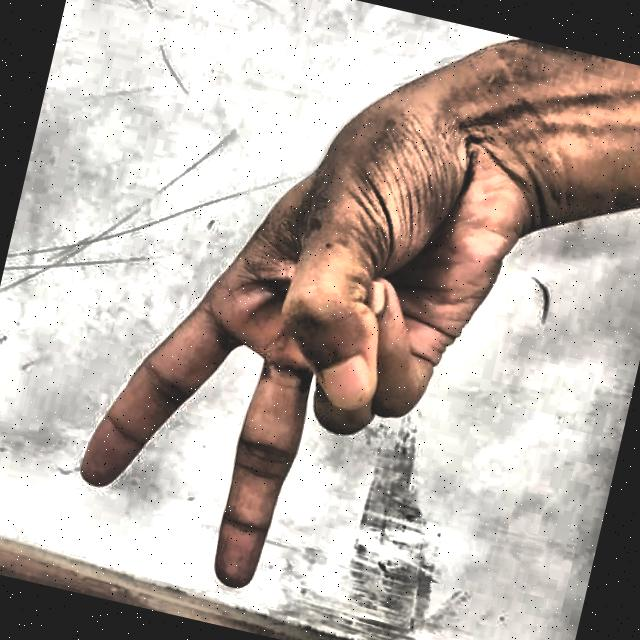Pa: (26, 14, 572, 640)
